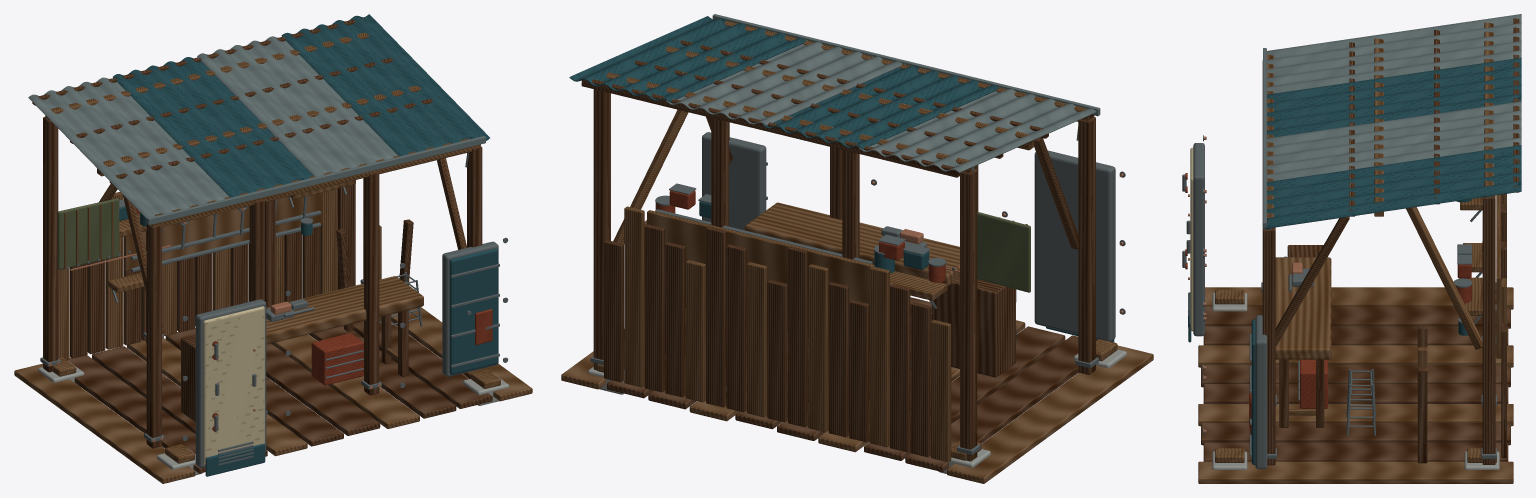
Rendered from scavenger_workshop.glb.
The picture shows the model from 3 angles, left to right: view 1: azimuth 30°, elevation 25°; view 2: azimuth 150°, elevation 25°; view 3: azimuth 270°, elevation 25°; orthographic projection. The views are drawn at different scales.
Parts seen in each view (by area): view 1: Scavenger_Reclaimed_cedar_and_drawer_wood, Scavenger_Sun-faded_drawer_wood, Scavenger_Chipped_blue-green_appliance_enamel, Scavenger_Weathered_galvanized_roofing, Scavenger_Blackened_salvaged_iron, Scavenger_Chipped_cream_appliance_enamel, Scavenger_Patched_olive_canvas, Scavenger_Faded_red_appliance_enamel, Scavenger_Pitted_concrete_blocks, Scavenger_Oxide_red_fastener_heads; view 2: Scavenger_Reclaimed_cedar_and_drawer_wood, Scavenger_Sun-faded_drawer_wood, Scavenger_Chipped_blue-green_appliance_enamel, Scavenger_Weathered_galvanized_roofing, Scavenger_Blackened_salvaged_iron, Scavenger_Patched_olive_canvas, Scavenger_Faded_red_appliance_enamel, Scavenger_Pitted_concrete_blocks; view 3: Scavenger_Reclaimed_cedar_and_drawer_wood, Scavenger_Sun-faded_drawer_wood, Scavenger_Chipped_blue-green_appliance_enamel, Scavenger_Weathered_galvanized_roofing, Scavenger_Blackened_salvaged_iron, Scavenger_Faded_red_appliance_enamel, Scavenger_Pitted_concrete_blocks, Scavenger_Chipped_cream_appliance_enamel.
Part boxes in pixels (x1,y1,x2,y2): Scavenger_Reclaimed_cedar_and_drawer_wood: (32,18,492,473); Scavenger_Sun-faded_drawer_wood: (14,32,532,483); Scavenger_Chipped_blue-green_appliance_enamel: (113,14,497,476); Scavenger_Weathered_galvanized_roofing: (28,36,485,225); Scavenger_Blackened_salvaged_iron: (40,29,508,467); Scavenger_Chipped_cream_appliance_enamel: (203,306,264,465); Scavenger_Patched_olive_canvas: (57,198,119,269); Scavenger_Faded_red_appliance_enamel: (135,208,492,431); Scavenger_Pitted_concrete_blocks: (38,361,509,475); Scavenger_Oxide_red_fastener_heads: (49,207,503,442); Scavenger_Reclaimed_cedar_and_drawer_wood: (581,18,1095,471); Scavenger_Sun-faded_drawer_wood: (561,20,1153,483); Scavenger_Chipped_blue-green_appliance_enamel: (569,16,1114,342); Scavenger_Weathered_galvanized_roofing: (666,14,1100,172); Scavenger_Blackened_salvaged_iron: (590,32,1125,454); Scavenger_Patched_olive_canvas: (977,212,1030,292); Scavenger_Faded_red_appliance_enamel: (655,190,945,282); Scavenger_Pitted_concrete_blocks: (587,349,1126,473); Scavenger_Reclaimed_cedar_and_drawer_wood: (1201,18,1519,465); Scavenger_Sun-faded_drawer_wood: (1198,22,1513,483); Scavenger_Chipped_blue-green_appliance_enamel: (1188,57,1521,464); Scavenger_Weathered_galvanized_roofing: (1263,14,1521,229); Scavenger_Blackened_salvaged_iron: (1182,26,1517,469); Scavenger_Faded_red_appliance_enamel: (1185,173,1471,435); Scavenger_Pitted_concrete_blocks: (1212,293,1499,469); Scavenger_Chipped_cream_appliance_enamel: (1190,147,1193,331).
Size of the model in its own units: 25.9 by 18.65 by 19.36.
Materials: 10 (7 with a texture image).
